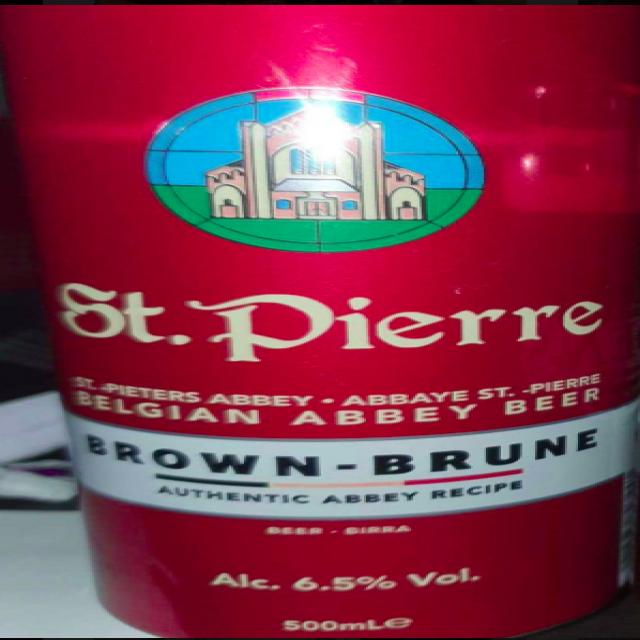St.Pierre Brune: (2, 0, 640, 640)
